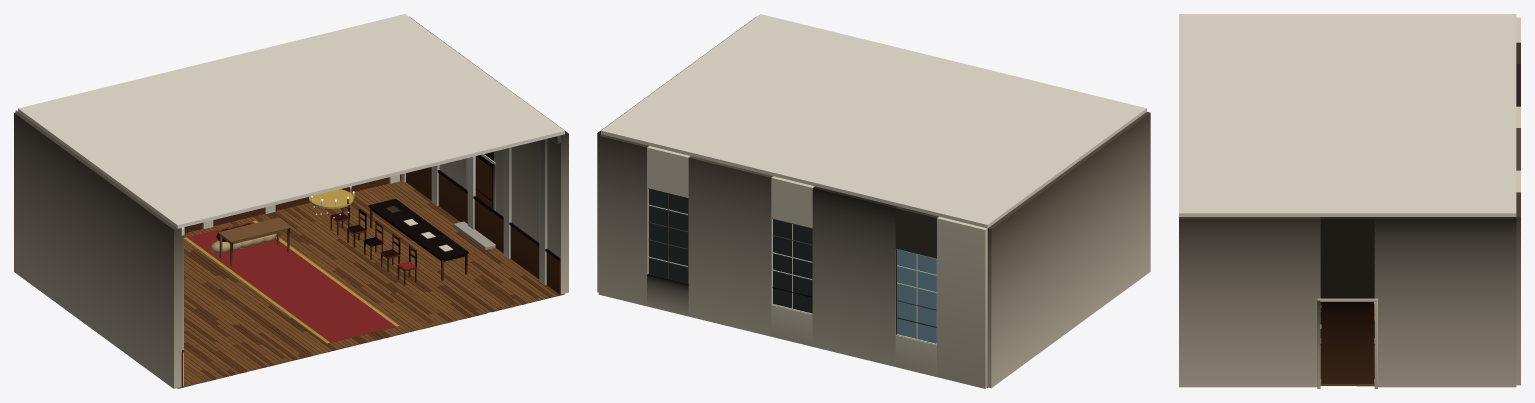
Rendered from hall.glb.
The picture shows the model from 3 angles, left to right: view 1: azimuth 30°, elevation 25°; view 2: azimuth 150°, elevation 25°; view 3: azimuth 270°, elevation 25°; orthographic projection. The views are drawn at different scales.
Visible parts, largest first — view 1: hall.plaster.17, hall.plaster.7, hall.plank.0, hall.plank.1, hall.fabric.2, hall.plank.12, hall.paint.14, hall.plank.13, hall.plank.21, hall.fabric.3, hall.paint.8, hall.brass.9 (+3 smaller); view 2: hall.plaster.7, hall.plaster.17, hall.glass.4, hall.paint.5; view 3: hall.plaster.17, hall.plaster.7, hall.paint.8, hall.paint.10.
Boxes of the visible parts, bbox=[...] form: hall.plaster.17: bbox=[18, 14, 564, 228]; hall.plaster.7: bbox=[14, 16, 568, 388]; hall.plank.0: bbox=[181, 180, 564, 387]; hall.plank.1: bbox=[177, 189, 560, 388]; hall.fabric.2: bbox=[187, 221, 396, 343]; hall.plank.12: bbox=[181, 167, 560, 386]; hall.paint.14: bbox=[181, 135, 560, 385]; hall.plank.13: bbox=[182, 167, 560, 352]; hall.plank.21: bbox=[218, 217, 291, 266]; hall.fabric.3: bbox=[184, 220, 399, 343]; hall.paint.8: bbox=[475, 155, 493, 208]; hall.brass.9: bbox=[309, 189, 353, 208]; hall.plaster.7: bbox=[597, 16, 1150, 388]; hall.plaster.17: bbox=[601, 14, 1146, 228]; hall.glass.4: bbox=[648, 189, 936, 343]; hall.paint.5: bbox=[647, 188, 936, 344]; hall.plaster.17: bbox=[1179, 14, 1516, 216]; hall.plaster.7: bbox=[1179, 17, 1520, 387]; hall.paint.8: bbox=[1321, 302, 1373, 384]; hall.paint.10: bbox=[1317, 298, 1377, 388].
Size of the model in its own units: 14.31 by 5.67 by 10.14.
